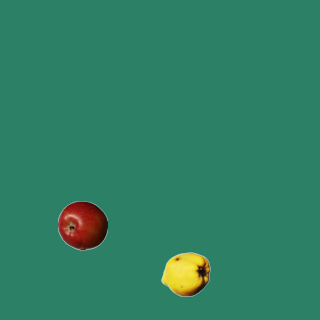Apple Braeburn: (57, 200, 107, 250)
Quince: (160, 249, 210, 299)
